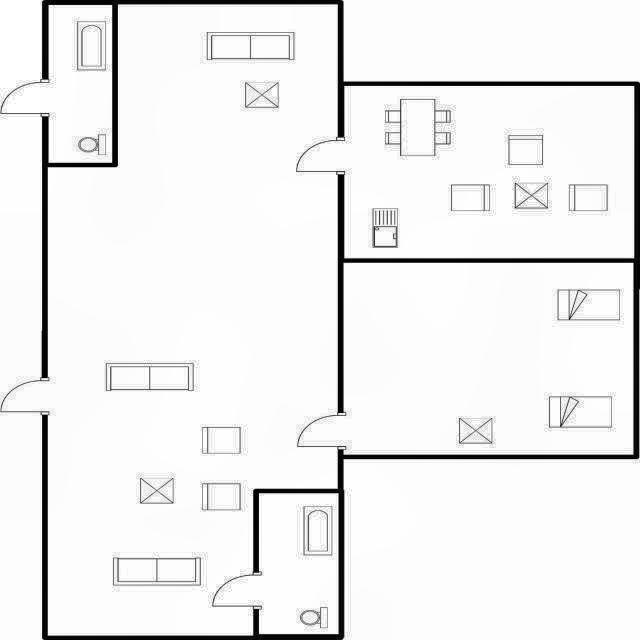room: (48, 4, 338, 636), (343, 263, 634, 455), (344, 86, 634, 258), (259, 493, 339, 634), (48, 5, 112, 163)
